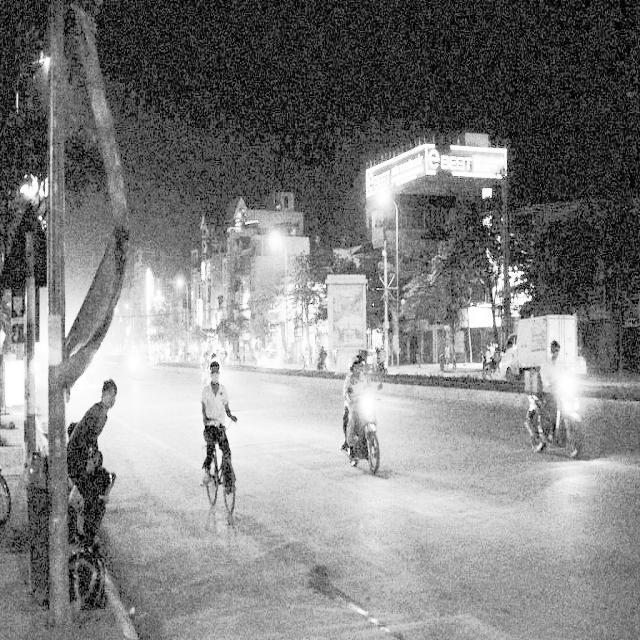Bicycle: (200, 431, 240, 514)
Motorcycle: (523, 395, 586, 460), (342, 415, 383, 477)
Person: (67, 372, 117, 489), (194, 356, 234, 463), (338, 356, 374, 440), (536, 340, 566, 418)
Truck: (489, 312, 578, 376)
